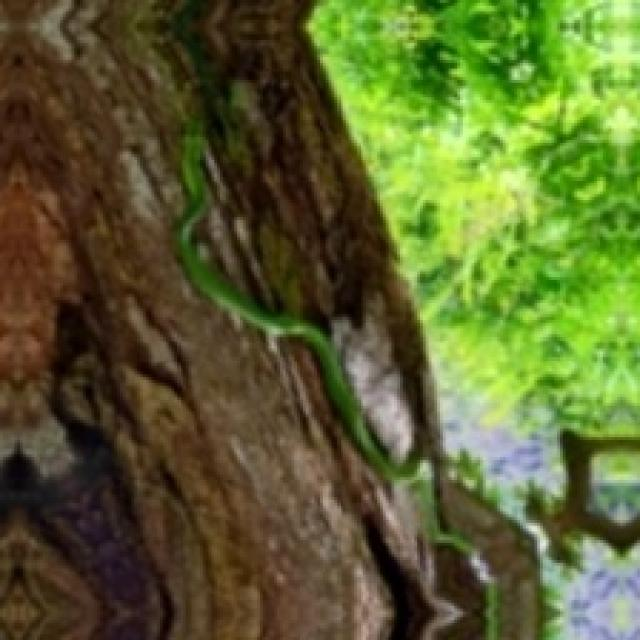red-tailed green ratsnake: (174, 120, 417, 480)
